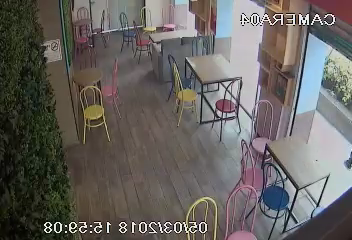libre: (232, 103, 332, 226), (165, 43, 247, 135), (63, 45, 129, 142), (62, 5, 115, 51)
